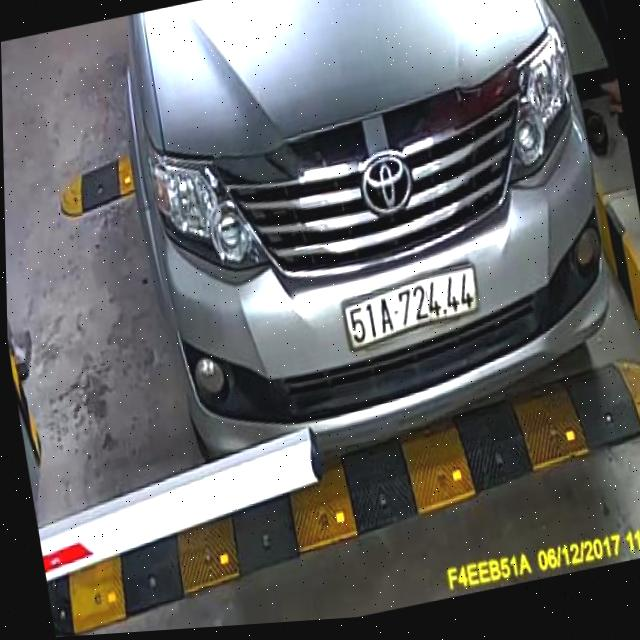car: (99, 0, 639, 501)
plate: (330, 264, 490, 359)
